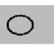no answer: (6, 11, 35, 38)
